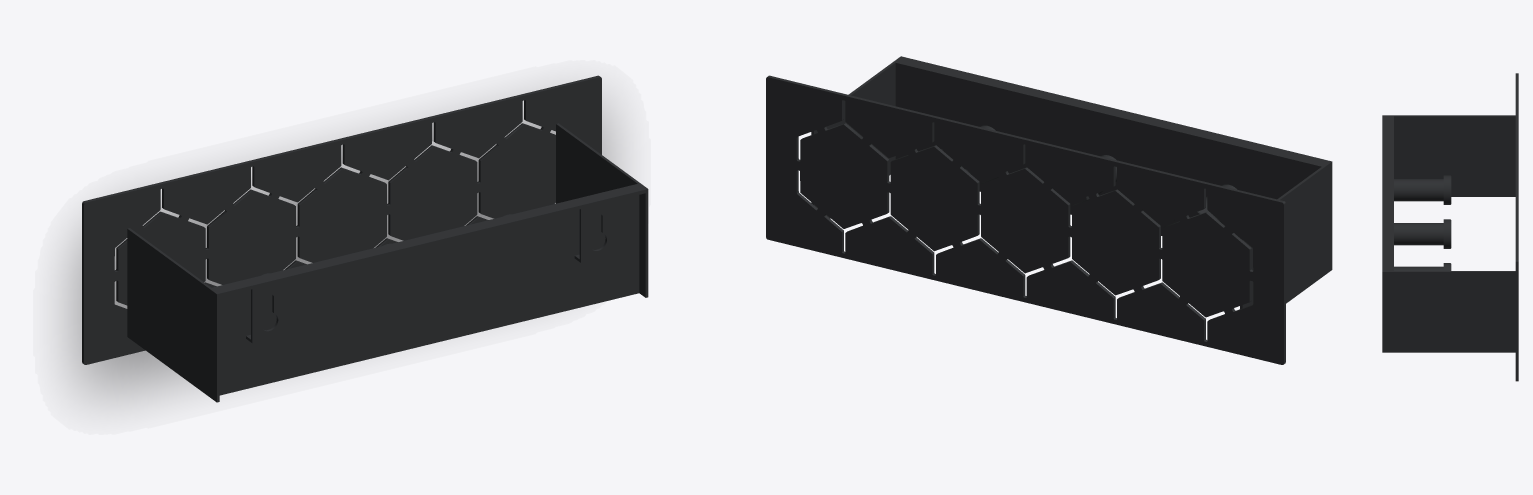
Rendered from bee-hook.8fd7ee31ba.ar.glb.
3 renders of one model, left to right at view 1: azimuth 30°, elevation 25°; view 2: azimuth 150°, elevation 25°; view 3: azimuth 270°, elevation 25°, orthographic. The views are drawn at different scales.
Visible parts, largest first — view 1: NAUO1, object 2; view 2: NAUO1; view 3: NAUO1.
Part boxes in pixels (left/top/right/bottom): NAUO1: left=82, top=75, right=648, bottom=402; object 2: left=67, top=104, right=616, bottom=396; NAUO1: left=766, top=56, right=1332, bottom=364; NAUO1: left=1382, top=73, right=1518, bottom=381.
Bounding box in the file's own units: 0.38 × 0.17 × 0.092.
2 materials, 1 textured.
